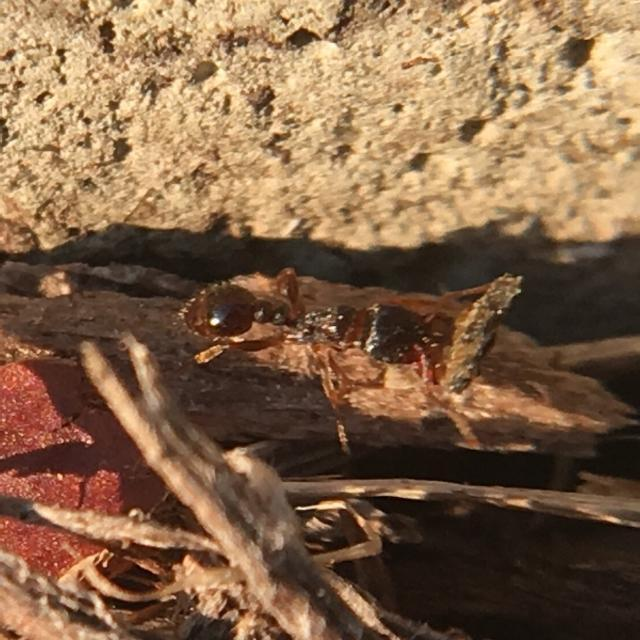Tetramorium: (168, 243, 466, 409)
